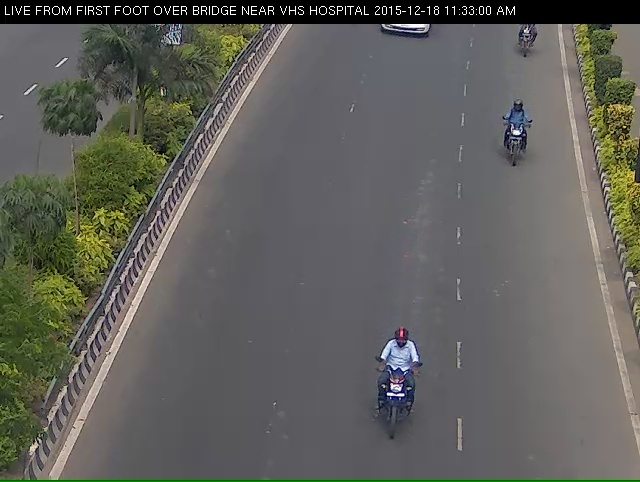Person: (365, 350, 417, 475), (485, 103, 553, 198), (510, 12, 543, 63)
